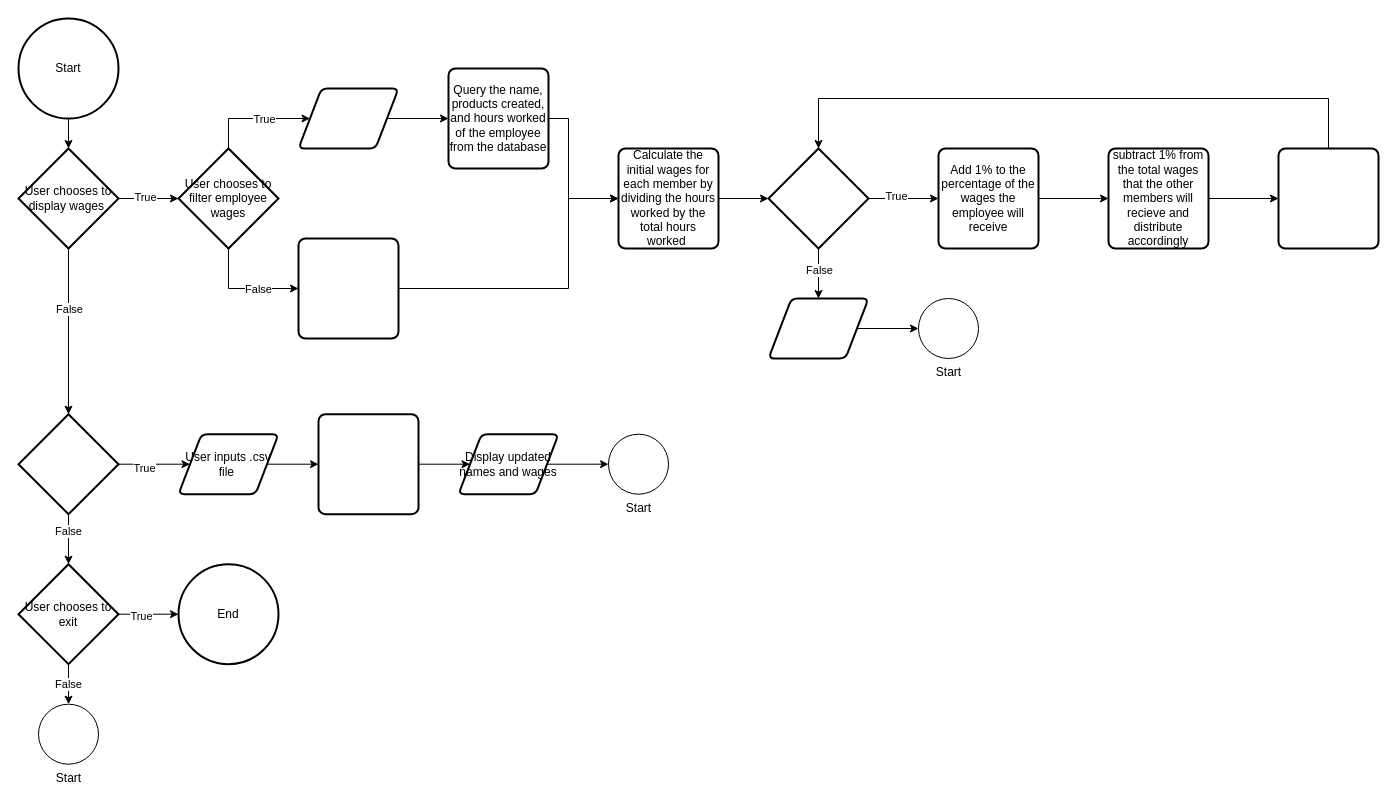
Some shapes in this 1396 by 802 pixel diagram are drawn without their labels. The centre of each missing label's shape, as x and y in pixels:
Display names and wages: the point at 818,328
Hours worked or product created >= 20: the point at 818,198
Query all names and corresponding products and hours from the database: the point at 348,288
Replace database with new information: the point at 368,464
subtract 20 from the hours worked or product: the point at 1328,198
User chooses to input new information: the point at 68,464
User inputs name of employee to filter: the point at 348,118
